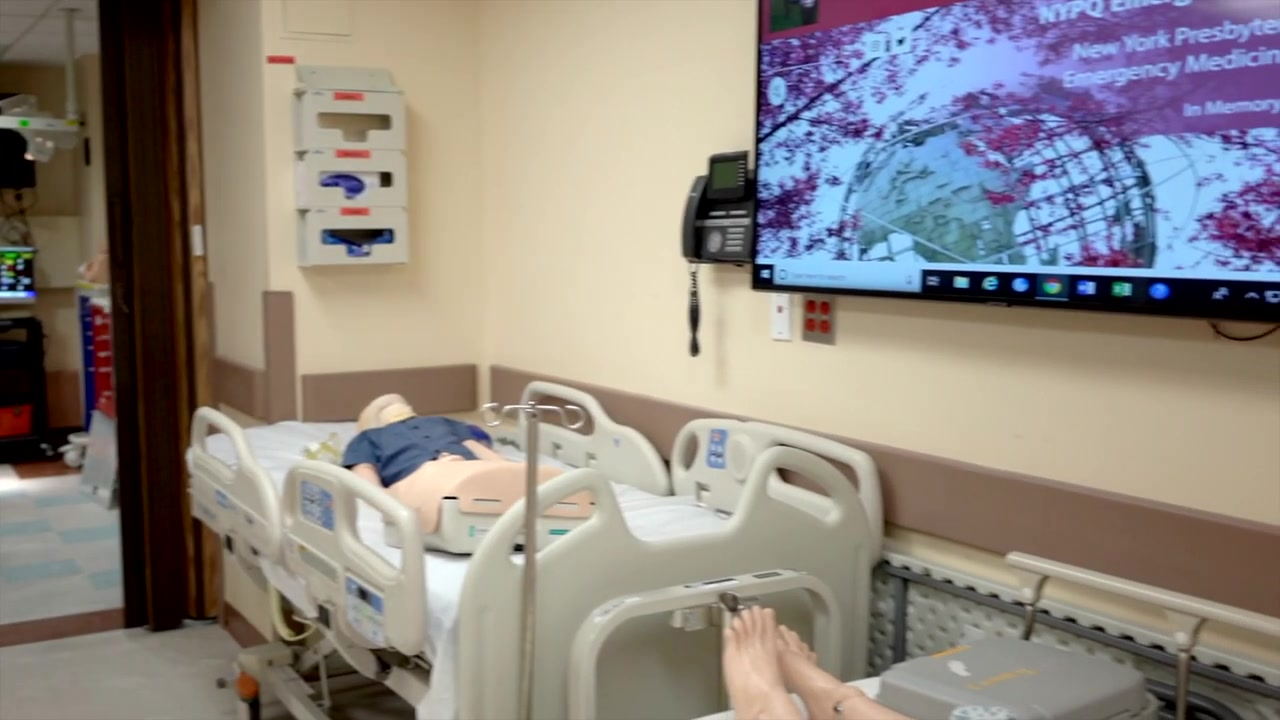TV: (751, 1, 1280, 322)
bedrail: (1002, 551, 1280, 720), (670, 416, 883, 574), (275, 461, 425, 657), (516, 383, 669, 500), (185, 406, 278, 571)
computer: (1, 246, 36, 304)
foot_board: (457, 446, 871, 720)
hospital_bed: (185, 379, 884, 720), (452, 443, 1260, 720)
iv_pole: (481, 404, 585, 720)
telephone: (675, 149, 757, 355)
